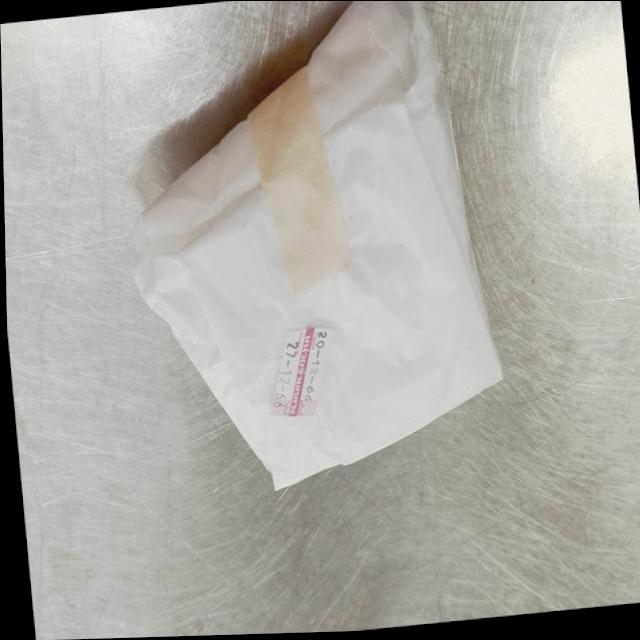General: (2, 0, 638, 638), (125, 0, 505, 492), (268, 321, 332, 418)
